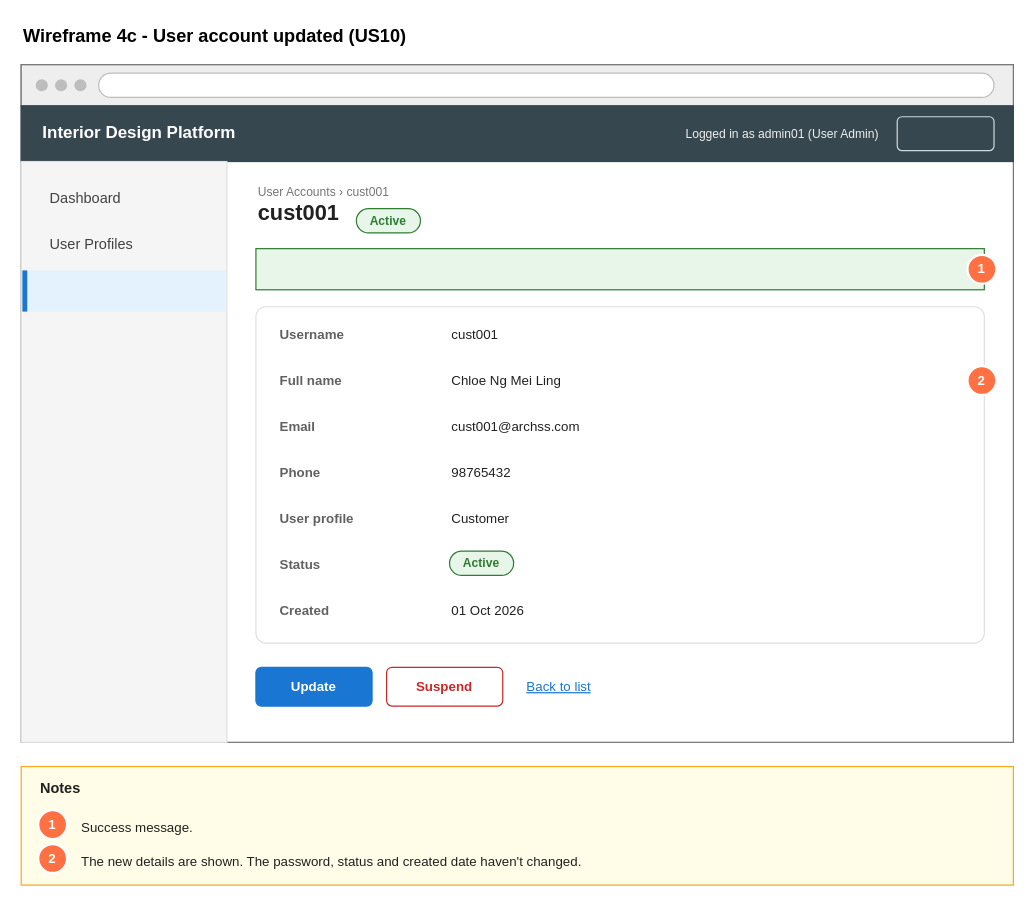
Some shapes in this 1035 by 906 pixel diagram are drawn without their labels. The box of each missing label's shape, as (x1, y1, x2, y2) in pixels:
localhost:8080/admin/accounts/3: (97, 72, 994, 97)
Log out: (896, 116, 994, 151)
User Accounts: (22, 270, 225, 311)
✔ User account updated successfully: (255, 247, 984, 290)
